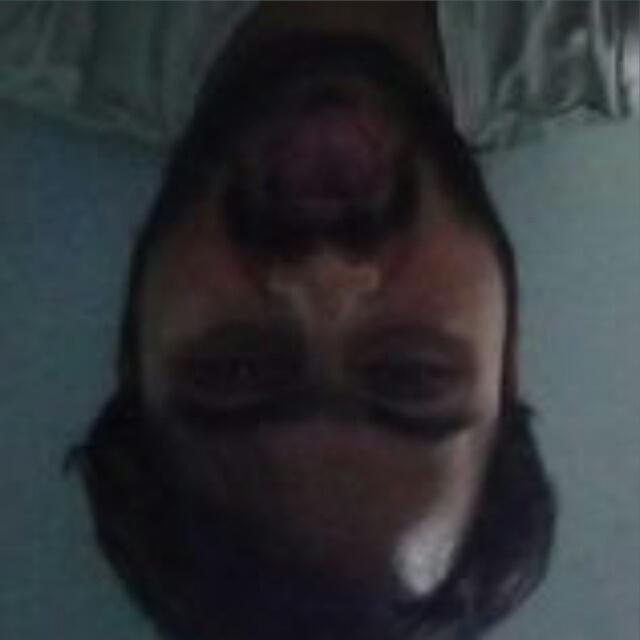Disgust: (106, 69, 562, 501)
